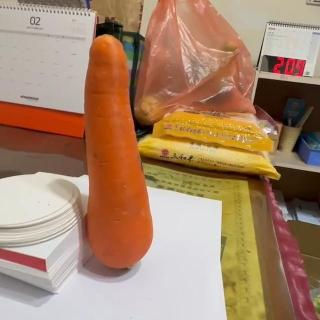carrot: (81, 35, 155, 271)
